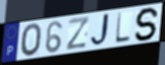6: (44, 19, 63, 55)
J: (90, 12, 113, 48)
L: (114, 11, 132, 44)
O: (20, 22, 43, 59)
S: (134, 6, 161, 42)
Z: (65, 15, 91, 52)
